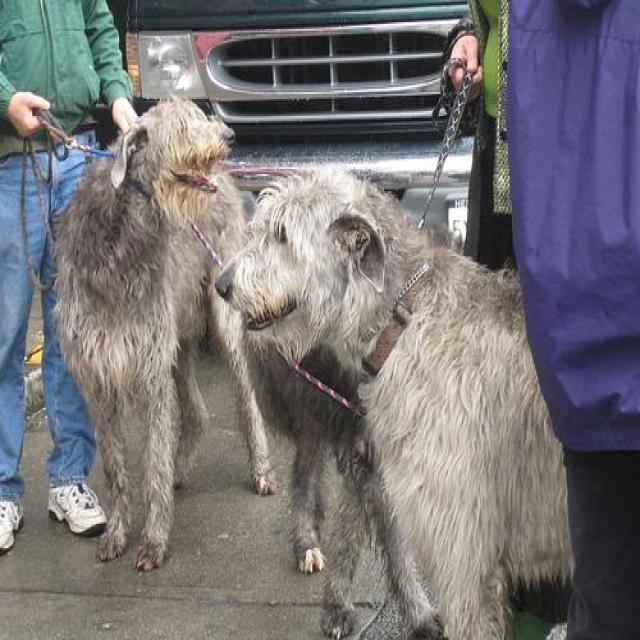irish_wolfhound: (213, 170, 574, 636), (51, 98, 279, 580)
